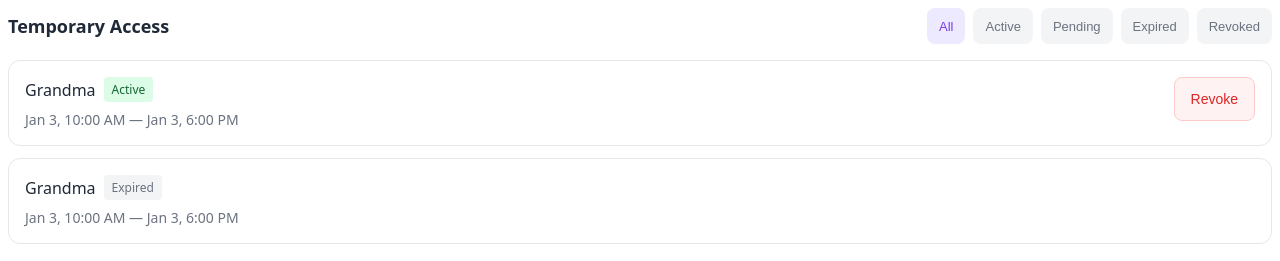
Test: TemporaryAccessList › Filtering › filters by active status
The image size is (1280, 261).
Click the button with test id "filter-active". click: (1003, 26)
box: [974, 8, 1033, 44]
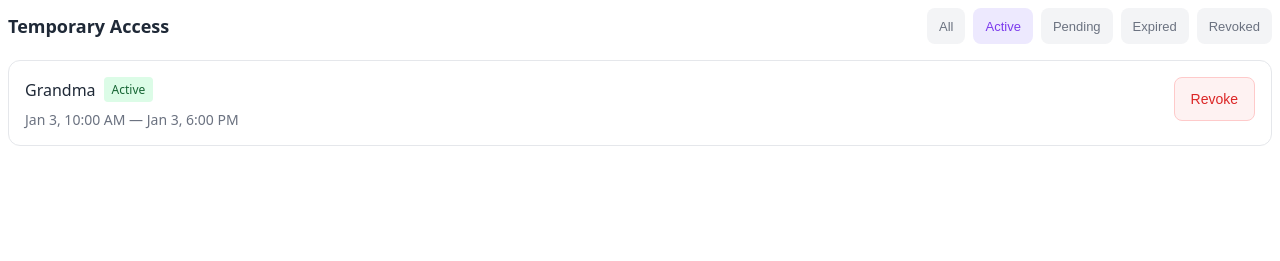
Check: the element with test id "grant-grant-1" is shown, box [8, 60, 1272, 146]
Check: the element with test id "grant-grant-2" is gone
